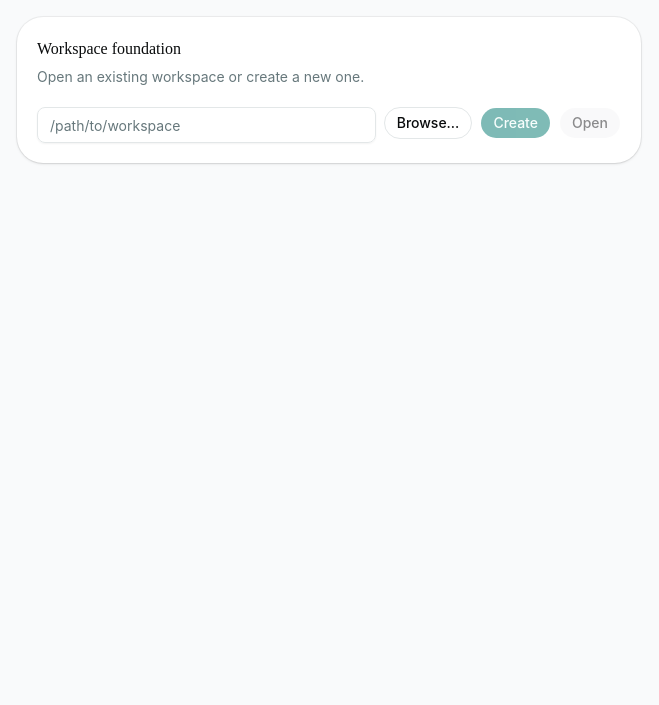
WorkspaceFoundationPanel › opens a workspace and lists the derived twin with its type
Type "/Users/demo/workspaces/demo" into the field named "Workspace folder" at (206, 125), box top-left (37, 107), bottom-right (376, 143)
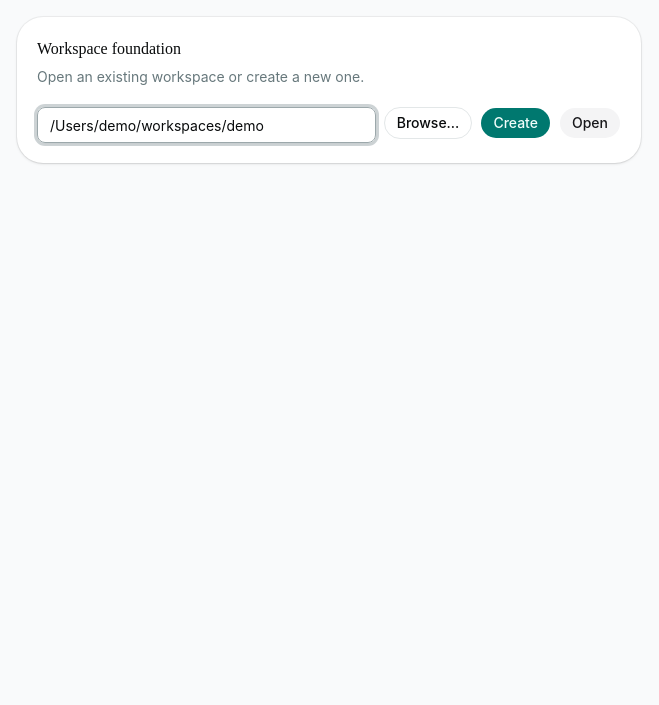
Click the button "Open" at (590, 123), box top-left (559, 107), bottom-right (621, 139)
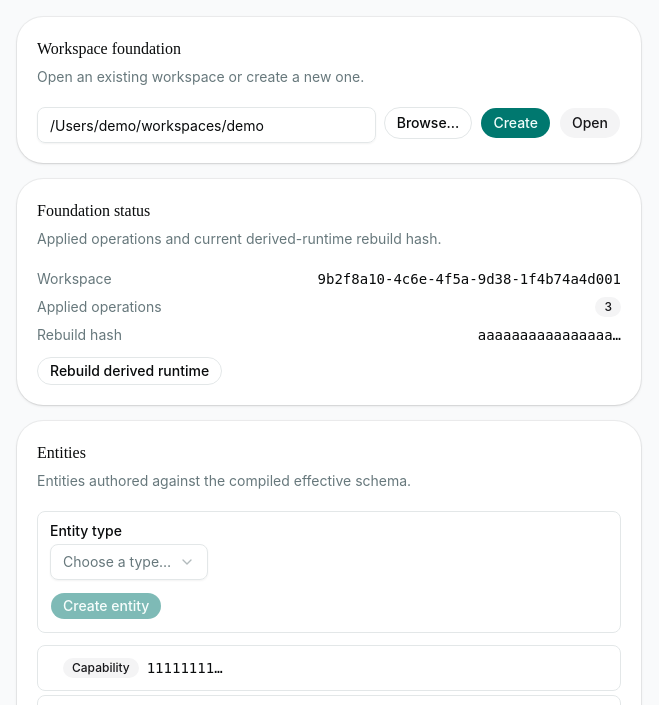
expect the text "Foundation status" is shown: met, box top-left (37, 202), bottom-right (150, 219)
expect the icon "3" is shown: met, box top-left (596, 297), bottom-right (621, 317)
expect the 1st text "Capability" is shown: met, box top-left (63, 658), bottom-right (139, 678)
